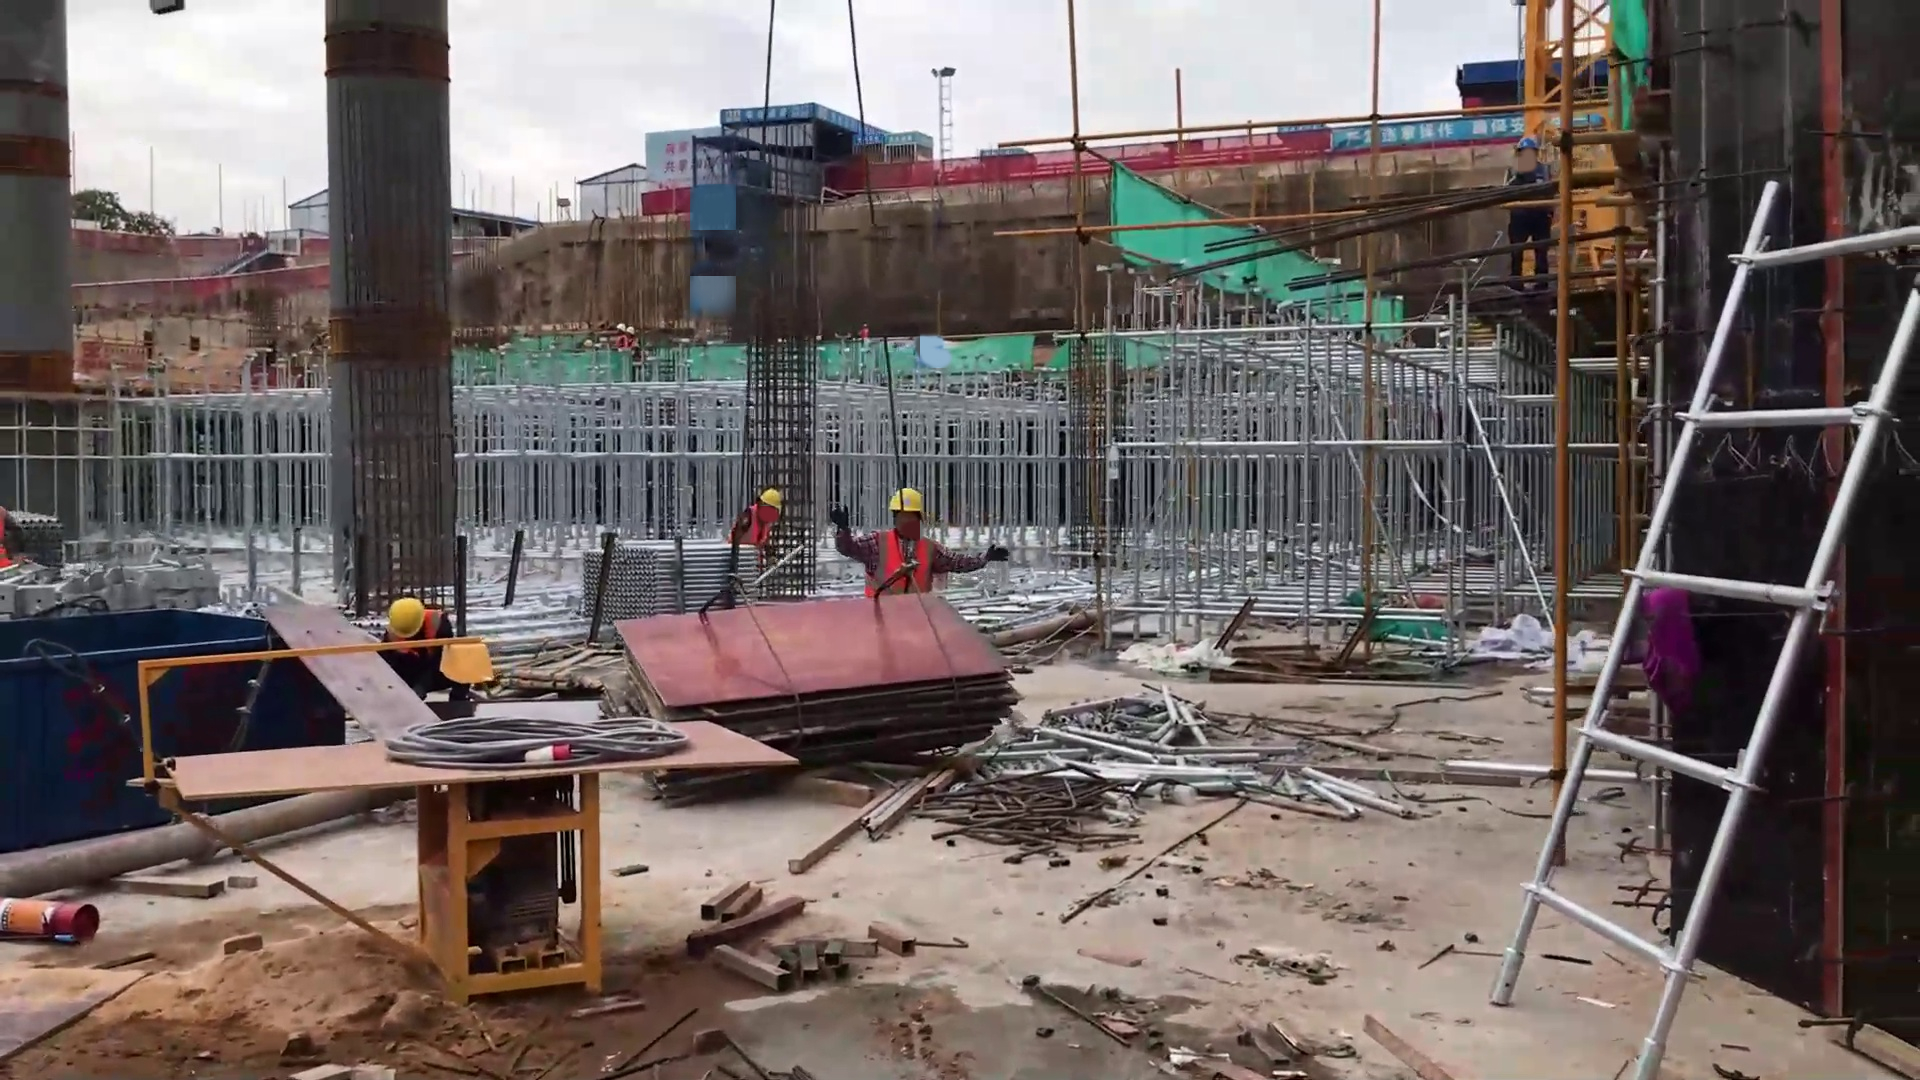board: (599, 593, 1010, 787)
cutter: (135, 634, 653, 1008)
ebox: (1566, 180, 1626, 261)
fence: (945, 132, 1271, 188)
helmet: (385, 595, 424, 638), (886, 484, 922, 515), (758, 487, 783, 512), (1515, 137, 1541, 155), (616, 322, 626, 333), (627, 325, 635, 336)
hopper: (1, 605, 344, 854)
person: (827, 484, 1011, 600), (1502, 135, 1559, 292), (378, 593, 455, 693), (725, 487, 784, 549), (626, 325, 642, 361), (615, 322, 629, 351)
scaffold: (581, 538, 760, 623), (7, 504, 64, 574)
slogan: (723, 104, 929, 143), (1339, 115, 1525, 150), (663, 128, 732, 175)
vest: (862, 526, 933, 596), (735, 501, 775, 548), (616, 335, 628, 349)
